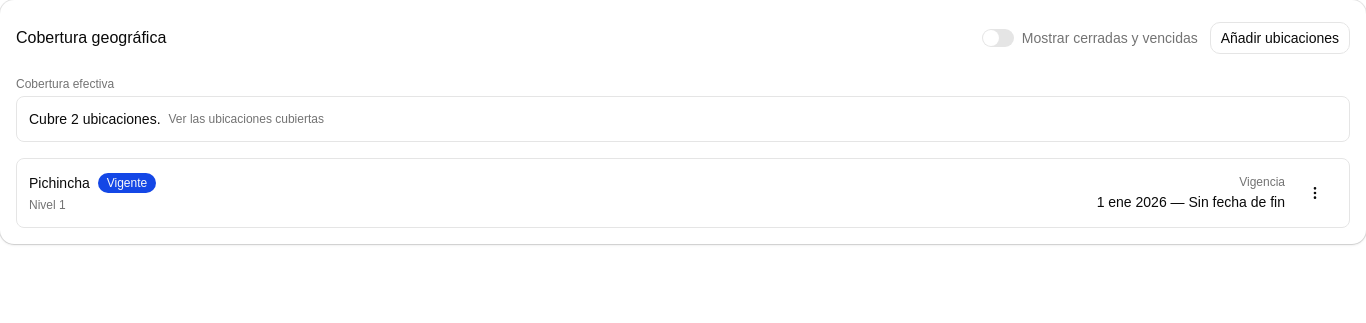
Test: UserGeoCoverageCard — cobertura efectiva, ESAVI-USERGEO-008 › con cobertura muestra el recuento y despliega la expansión
Click the text "Cubre 2 ubicaciones.". click: (95, 119)
box: [29,109,160,129]
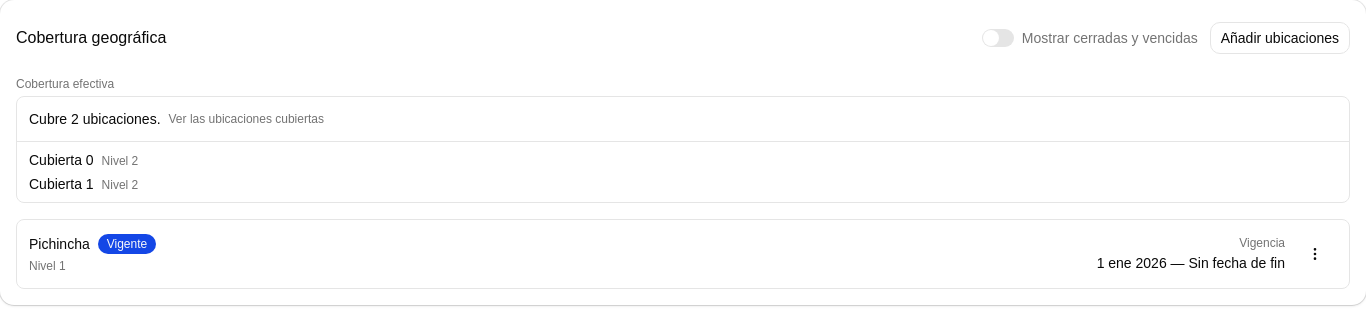
Check: the text "Cubierta 0" is shown, box [29,150,94,170]
Check: the text "Cubierta 1" is shown, box [29,174,94,194]
